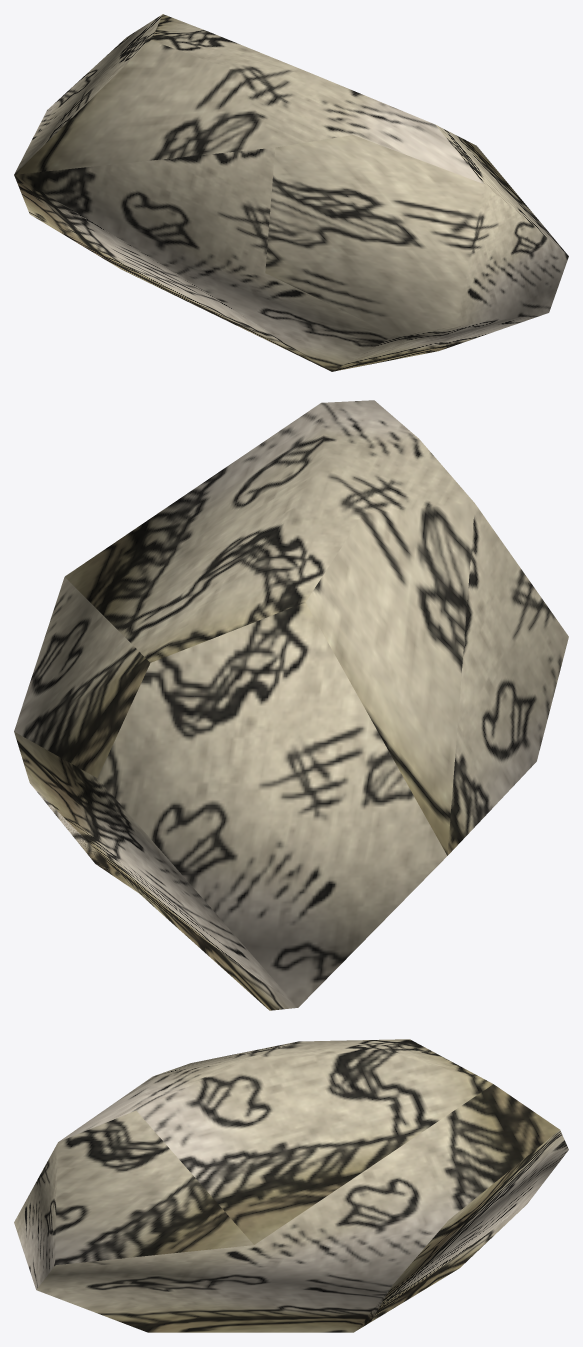
Rendered from boulder 3.glb.
3 renders of one model, top to bottom at view 1: azimuth 30°, elevation 25°; view 2: azimuth 150°, elevation 25°; view 3: azimuth 270°, elevation 25°, orthographic. The views are drawn at different scales.
Visible parts, largest first — view 1: Boulder 3; view 2: Boulder 3; view 3: Boulder 3.
Boxes of the visible parts, x1,y1,x2,y2 form: Boulder 3: (14, 14, 568, 371); Boulder 3: (14, 400, 568, 1010); Boulder 3: (14, 1039, 568, 1332).
Size of the model in its own units: 0.5868 by 0.4085 by 0.8488.
Materials: 1 (1 with a texture image).
